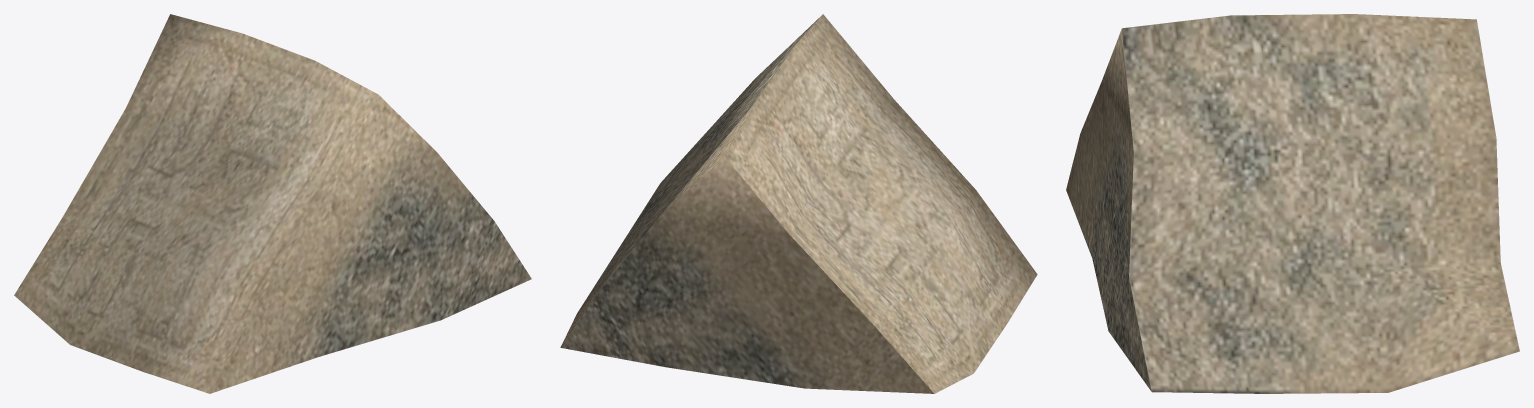
Rendered from desert-bigstone02.fbx.
The picture shows the model from 3 angles, left to right: view 1: azimuth 30°, elevation 25°; view 2: azimuth 150°, elevation 25°; view 3: azimuth 270°, elevation 25°; orthographic projection. The views are drawn at different scales.
Visible parts, largest first — view 1: desert-bigstone; view 2: desert-bigstone; view 3: desert-bigstone.
Boxes of the visible parts, x1,y1,x2,y2 form: desert-bigstone: (14, 14, 531, 393); desert-bigstone: (560, 14, 1037, 393); desert-bigstone: (1066, 14, 1519, 393).
Bounding box in the file's own units: 4.5 × 2.7 × 3.79.
